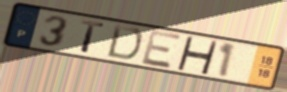1: (216, 41, 237, 79)
3: (38, 15, 70, 48)
D: (105, 23, 145, 62)
E: (140, 29, 184, 71)
H: (175, 34, 220, 76)
T: (79, 18, 106, 55)
